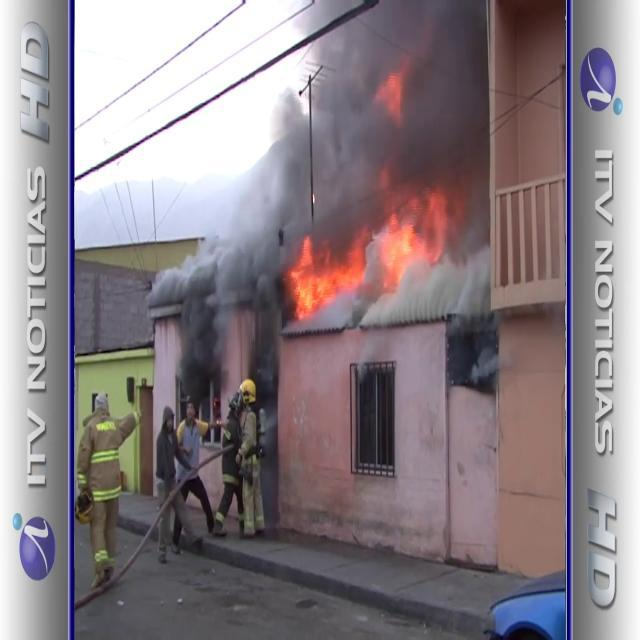Fire: (378, 188, 454, 286), (284, 234, 363, 319)
Smoke: (265, 1, 488, 260)
